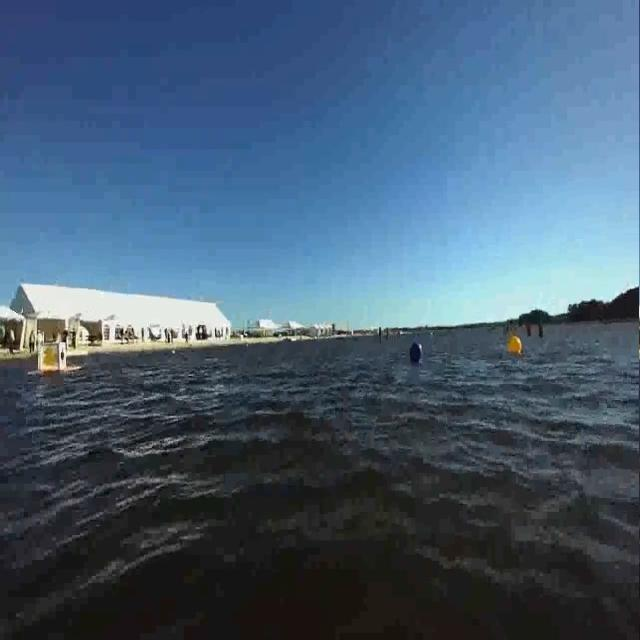blue-buoy: (409, 340, 423, 364)
yellow-buoy: (506, 334, 521, 358)
